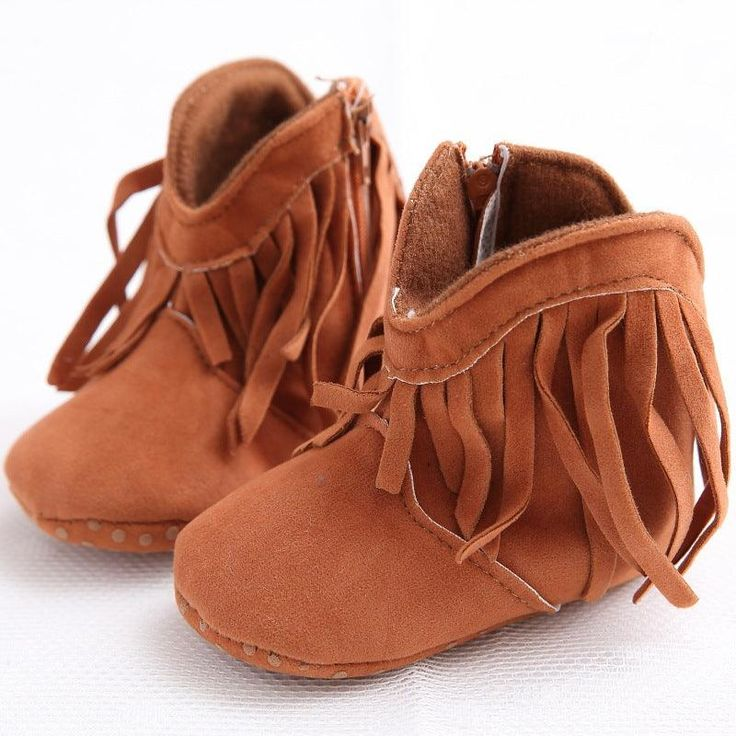gamuza: (3, 59, 729, 681)
